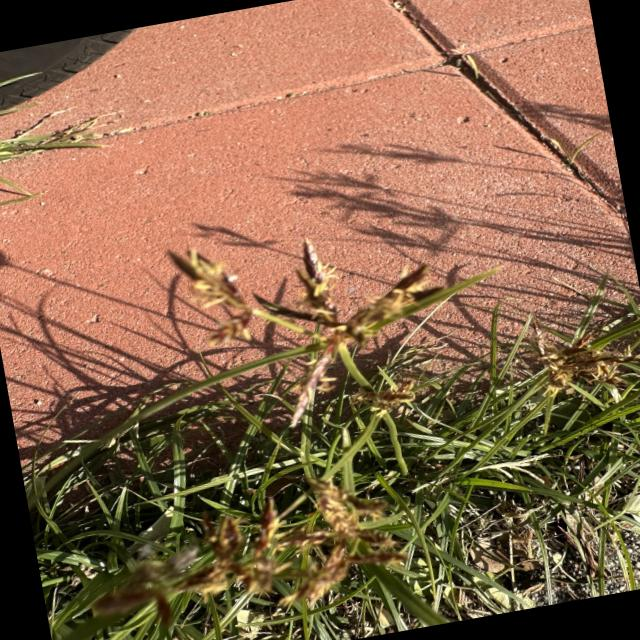cyperus: (156, 197, 504, 452), (59, 447, 422, 640), (501, 288, 640, 420)
